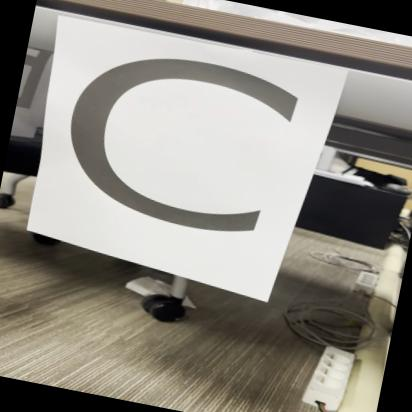seat: (22, 14, 335, 292)
